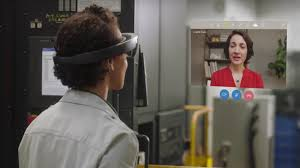hololens: (51, 32, 140, 66)
